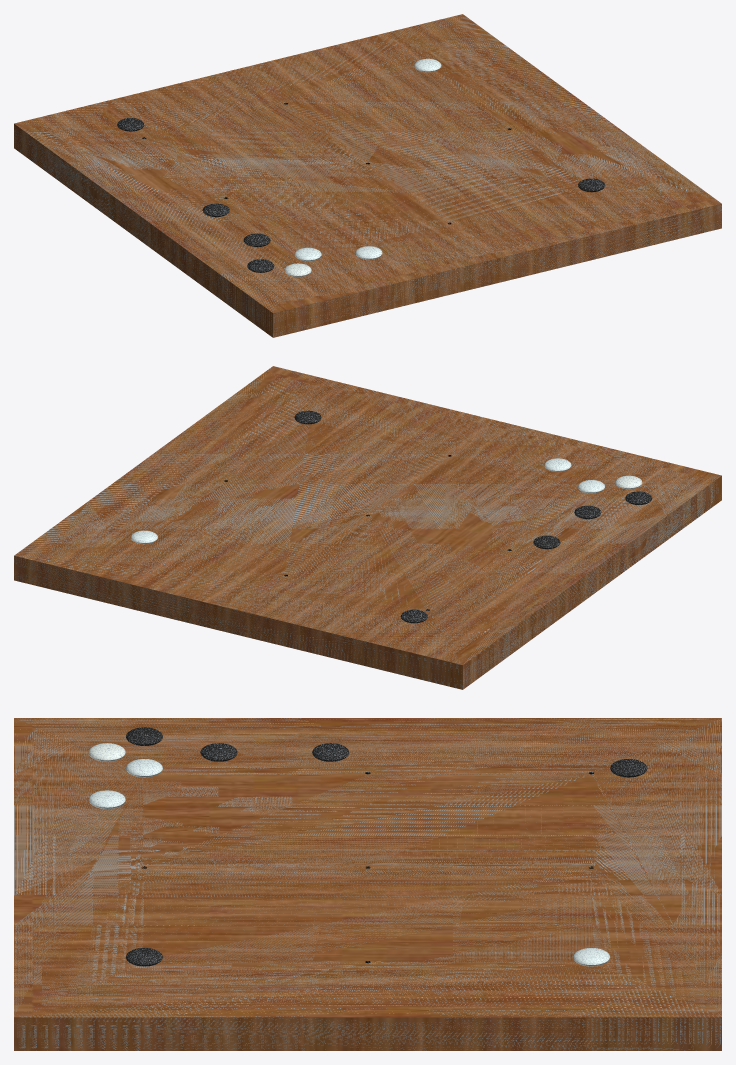
The picture shows the model from 3 angles, top to bottom: view 1: azimuth 30°, elevation 25°; view 2: azimuth 150°, elevation 25°; view 3: azimuth 270°, elevation 25°; orthographic projection. The views are drawn at different scales.
Visible parts, largest first — view 1: 棋盘; view 2: 棋盘; view 3: 棋盘, 棋子 (×9).
Boxes of the visible parts, box(x1,y1,x2,y2) form: 棋盘: box(14, 14, 721, 337); 棋盘: box(14, 366, 721, 689); 棋盘: box(14, 718, 721, 1050); 棋子 (×9): box(88, 727, 647, 966).
Size of the model in its own units: 14.96 by 14.96 by 1.02.
